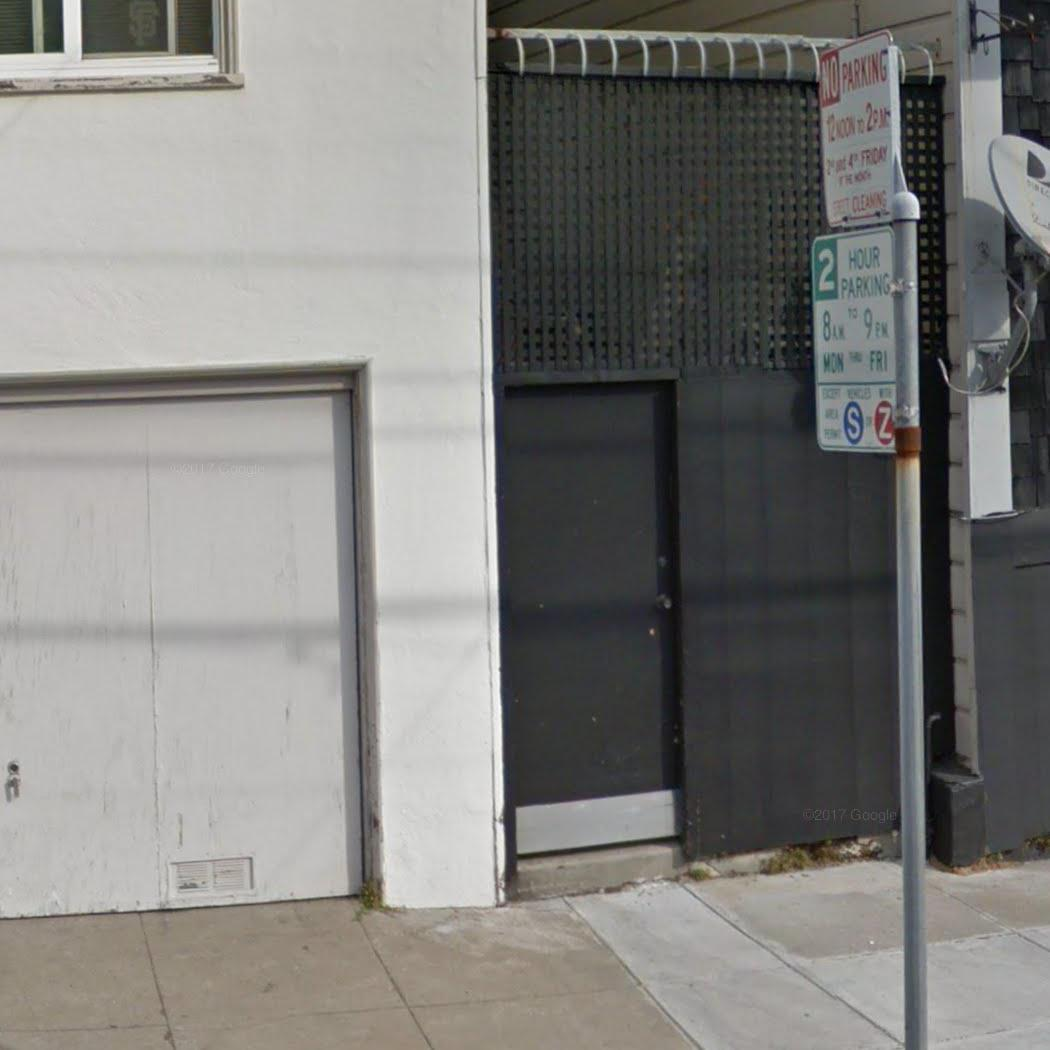2 Hour Parking: (802, 230, 918, 457)
No Parking: (811, 29, 907, 228)
